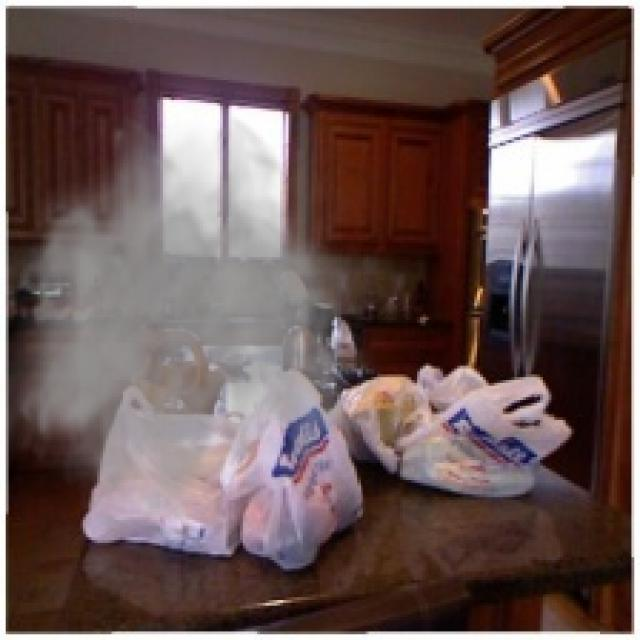smoke: (6, 111, 380, 528)
